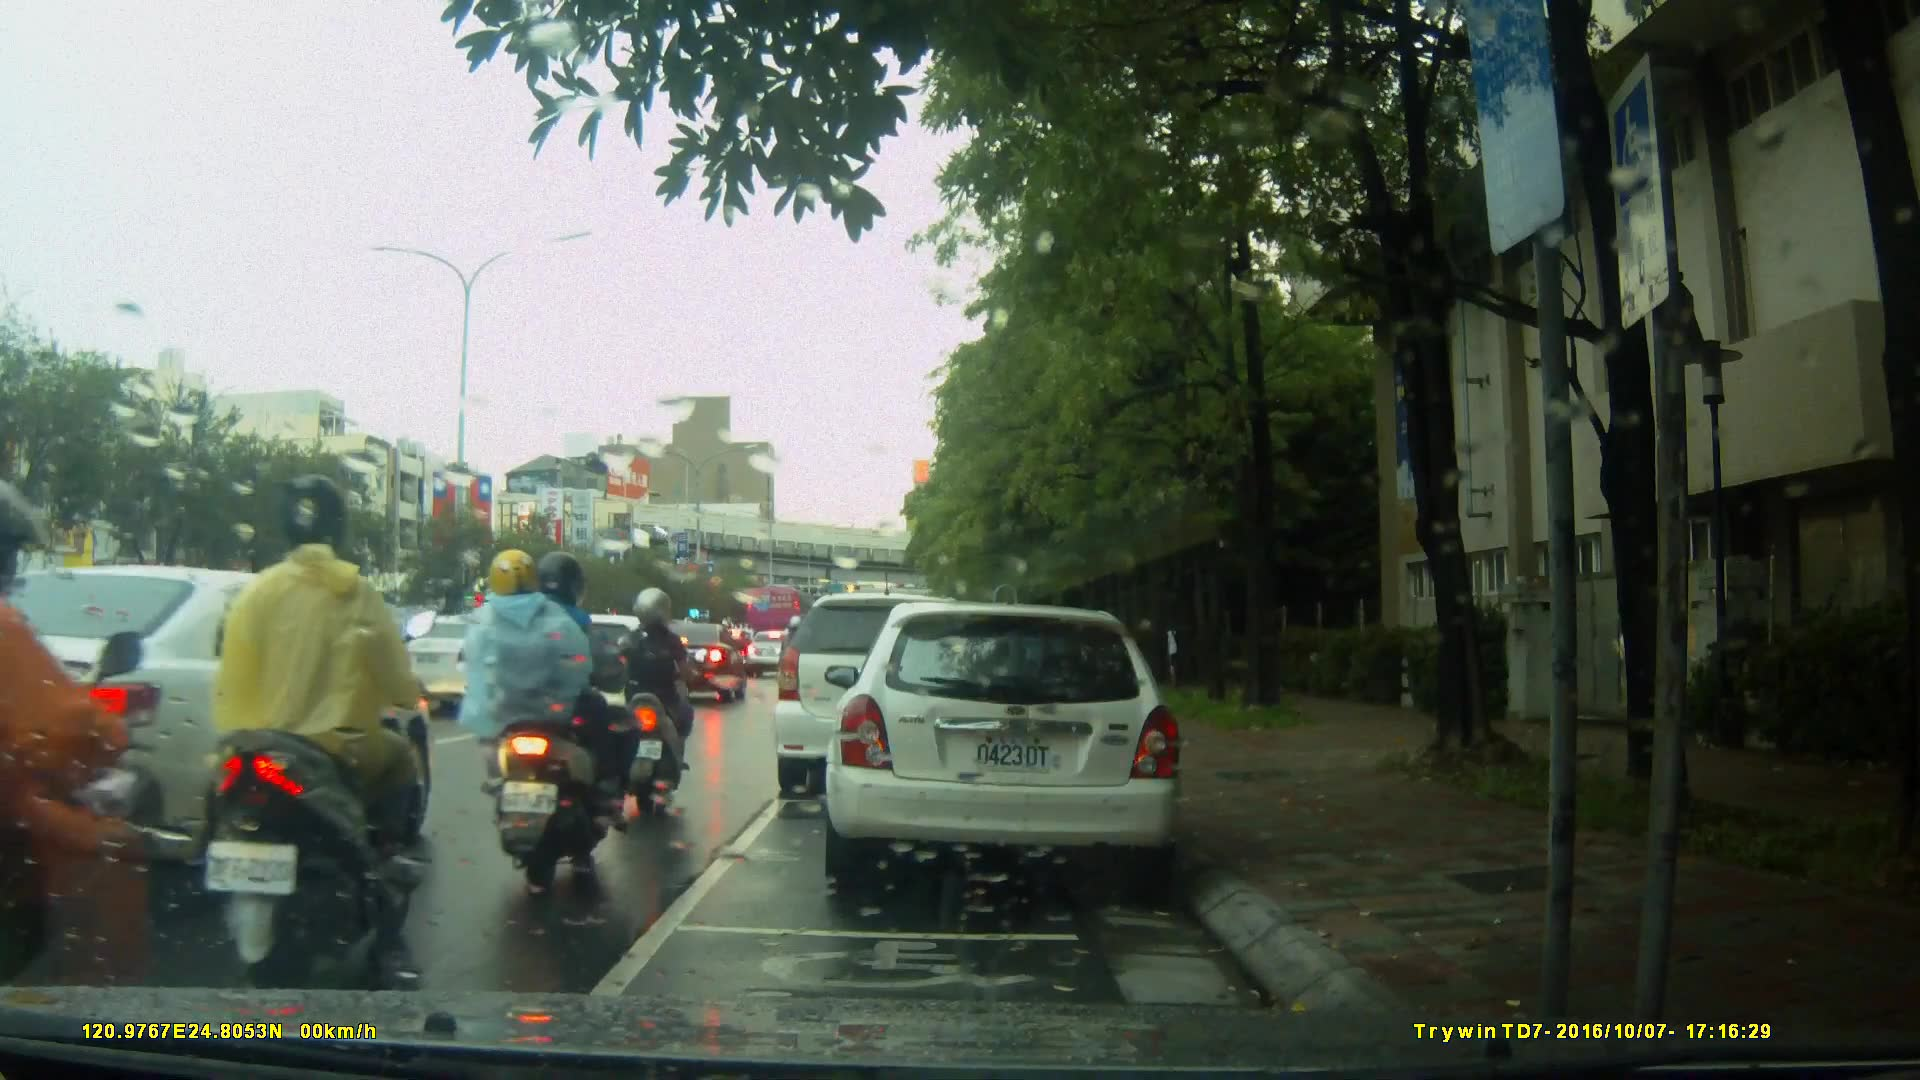rider: (193, 465, 436, 990), (1, 442, 153, 1039), (461, 549, 629, 902), (591, 584, 703, 831)
vehicle: (1, 563, 440, 855), (835, 594, 1194, 898), (776, 590, 1026, 784), (636, 624, 751, 705), (743, 572, 822, 654)
